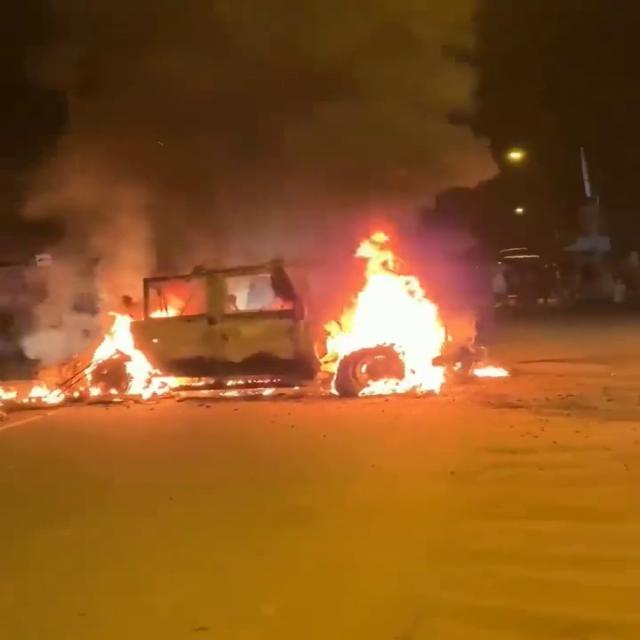Fire: (321, 233, 445, 398), (0, 314, 180, 406)
Smoke: (23, 0, 497, 344)
